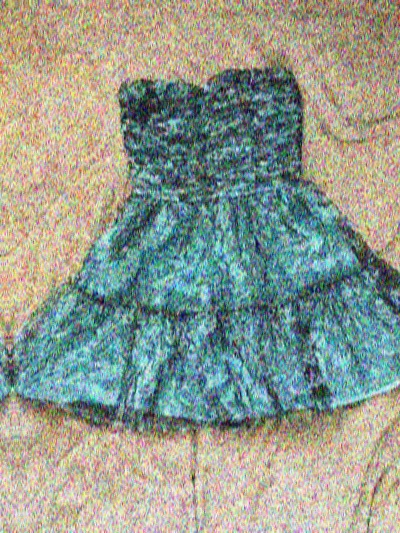Dress: (0, 47, 400, 443), (0, 77, 15, 473)
